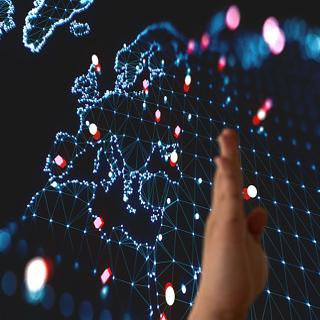RIGHT: (194, 124, 280, 309)
